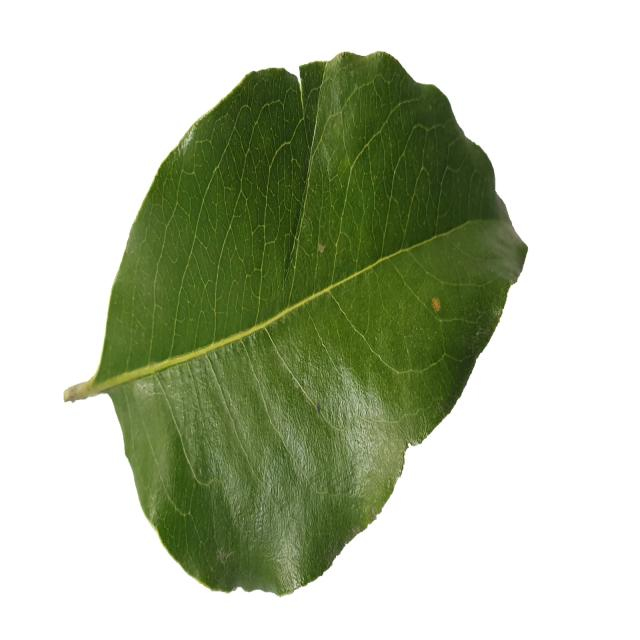Medicinal-Sandalwood: (62, 51, 529, 602)
